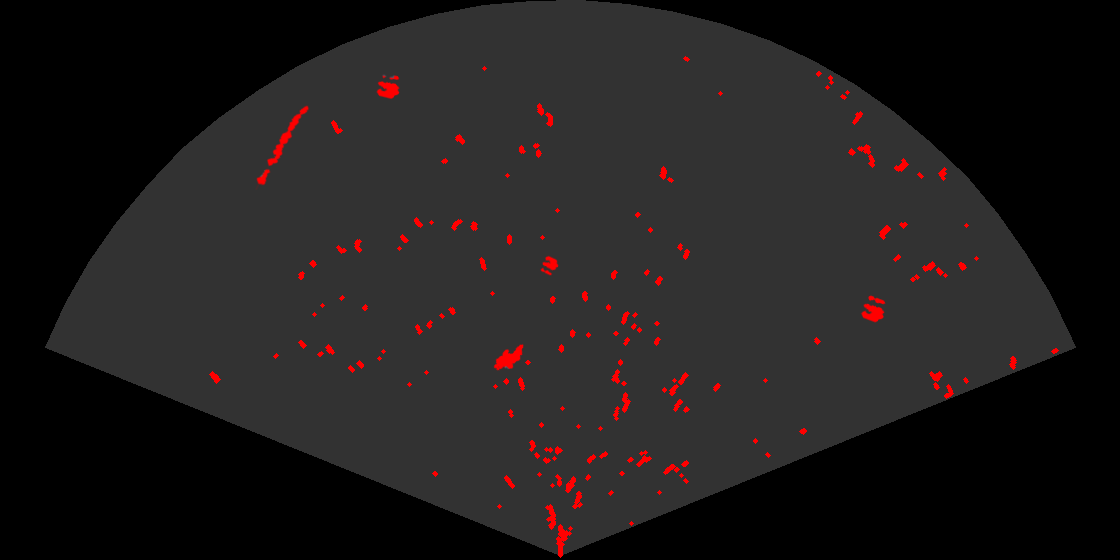AUV: (492, 342, 525, 372)
ball: (859, 294, 887, 324), (375, 74, 401, 101), (539, 254, 560, 277)
chain: (254, 104, 311, 190)
